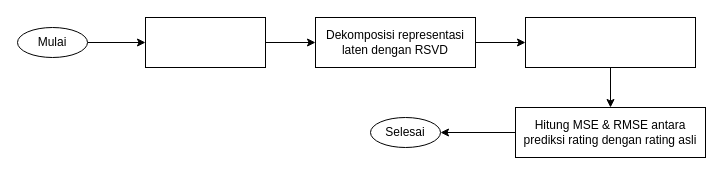
The diagram is 723 pixels wide and 175 high, and some of its shapes have lost their labels. The centre of each missing label's shape, as x and y in pixels:
Cari produk dari kedua matriks hasil dekomposisi RSVD: point (610, 42)
Masukkan data ke lapisan encoder VAE: point (205, 42)
